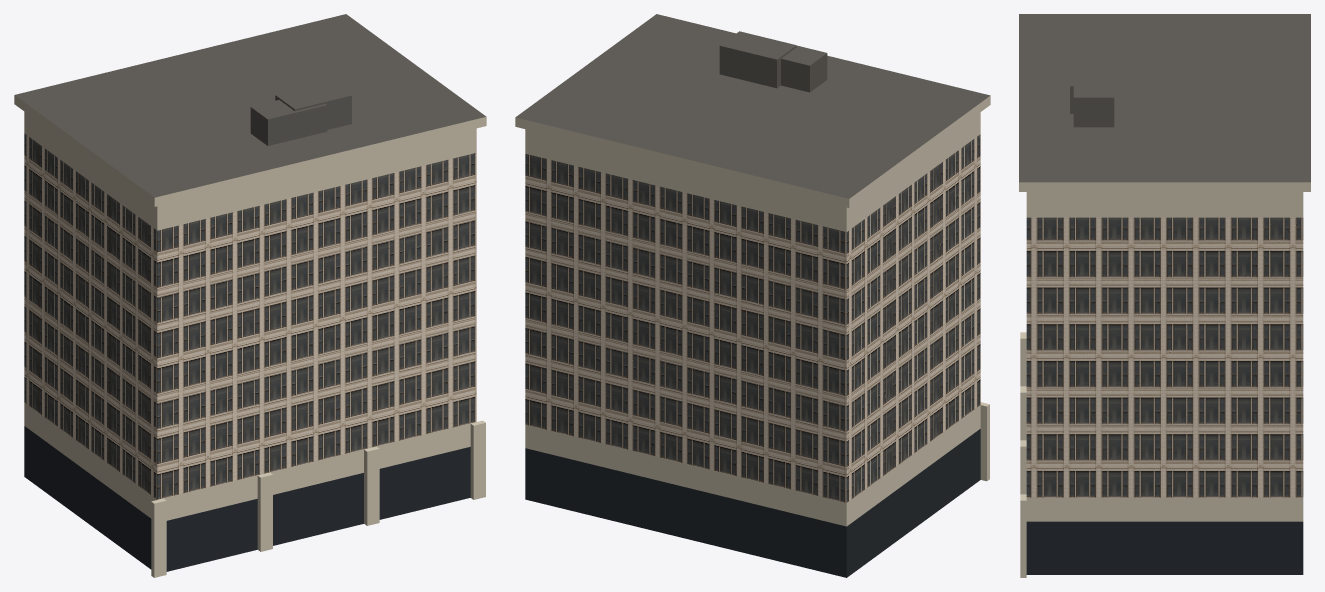
Rendered from gen_low_terracotta_office.glb.
3 views of the same model, side by side, from view 1: azimuth 30°, elevation 25°; view 2: azimuth 150°, elevation 25°; view 3: azimuth 270°, elevation 25° (orthographic). The views are drawn at different scales.
Parts seen in each view (by area): view 1: gen_low_terracotta_office; view 2: gen_low_terracotta_office; view 3: gen_low_terracotta_office.
Part boxes in pixels (x1=…): gen_low_terracotta_office: x1=14, y1=14, x2=486, y2=577; gen_low_terracotta_office: x1=515, y1=14, x2=990, y2=577; gen_low_terracotta_office: x1=1019, y1=14, x2=1310, y2=577.
Size of the model in its own units: 37.4 by 44.07 by 27.4.
2 materials, 2 textured.
